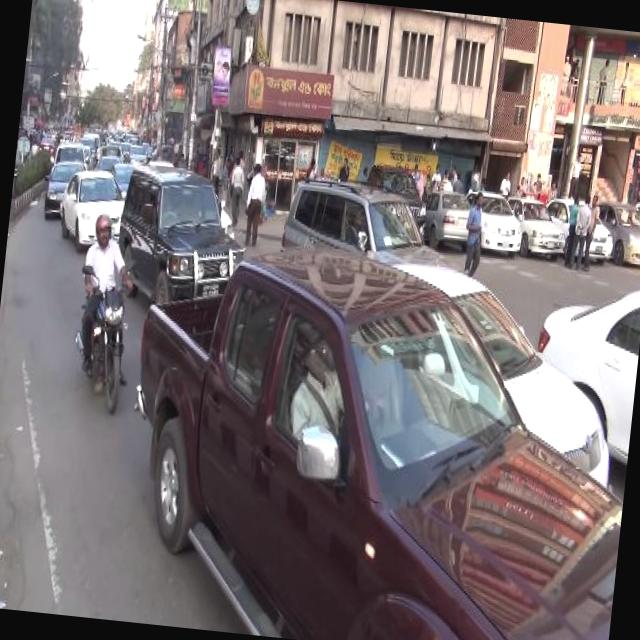car: (274, 167, 466, 286), (106, 156, 254, 310), (54, 166, 130, 240), (360, 158, 432, 234), (502, 190, 570, 262), (459, 187, 528, 257), (422, 183, 476, 252), (594, 196, 640, 267), (44, 152, 84, 218), (35, 133, 60, 155), (125, 142, 148, 164)
motorcycle: (60, 206, 147, 420), (100, 140, 122, 162)
truck: (110, 229, 640, 640)
